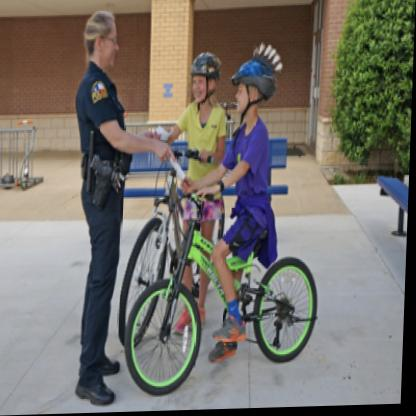With Helmet: (229, 56, 282, 125), (187, 51, 223, 103)
